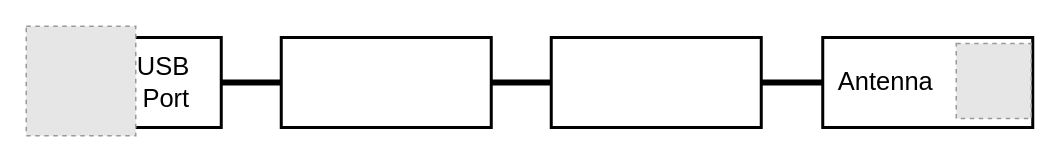
This 1061x162 diagram has some shape labels left out. Grey dashed boxes stand in for pictures. Here are the shapes that lost their labels. From the top down, the centre of each, then its label:
At [385,81]: "USB to Serial Converter".
At [655,81]: "Wireless Microcontroller".
